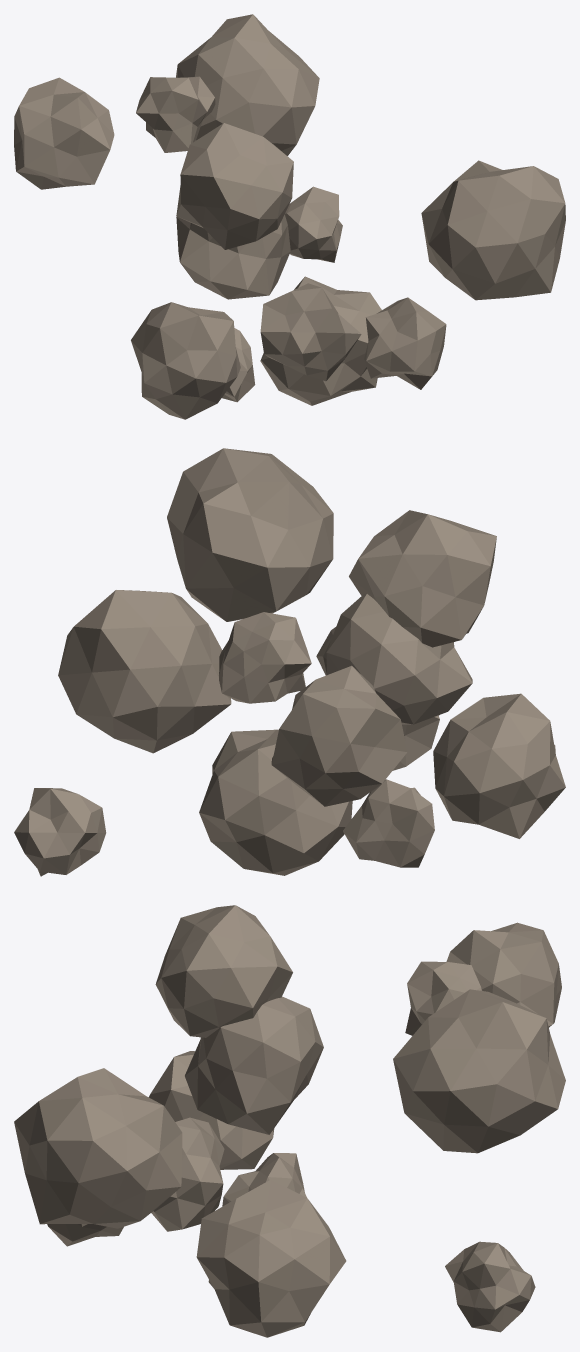
Rendered from planet_debris.glb.
3 renders of one model, top to bottom at view 1: azimuth 30°, elevation 25°; view 2: azimuth 150°, elevation 25°; view 3: azimuth 270°, elevation 25°, orthographic. The views are drawn at different scales.
Parts seen in each view (by area): view 1: Debris_02, Debris_09, Debris_03, Debris_00, Debris_04, Debris_01, Debris_05, Debris_08, Debris_06, Debris_07, Debris_11, Debris_10; view 2: Debris_02, Debris_09, Debris_00, Debris_03, Debris_06, Debris_04, Debris_05, Debris_07, Debris_11, Debris_10, Debris_01; view 3: Debris_09, Debris_02, Debris_06, Debris_05, Debris_03, Debris_04, Debris_11, Debris_01, Debris_00, Debris_07, Debris_10, Debris_08.
Part boxes in pixels (bbox=[...]): Debris_02: bbox=[421, 160, 565, 300]; Debris_09: bbox=[176, 14, 319, 155]; Debris_03: bbox=[176, 123, 293, 249]; Debris_00: bbox=[131, 302, 240, 419]; Debris_04: bbox=[14, 77, 114, 189]; Debris_01: bbox=[260, 283, 361, 381]; Debris_05: bbox=[176, 214, 290, 299]; Debris_08: bbox=[364, 297, 446, 389]; Debris_06: bbox=[260, 276, 381, 405]; Debris_07: bbox=[136, 76, 215, 152]; Debris_11: bbox=[284, 186, 342, 262]; Debris_10: bbox=[222, 328, 255, 402]; Debris_02: bbox=[167, 448, 333, 621]; Debris_09: bbox=[58, 590, 231, 753]; Debris_00: bbox=[433, 693, 565, 838]; Debris_03: bbox=[349, 510, 496, 647]; Debris_06: bbox=[199, 729, 352, 875]; Debris_04: bbox=[271, 665, 407, 806]; Debris_05: bbox=[326, 593, 472, 724]; Debris_07: bbox=[219, 612, 311, 703]; Debris_11: bbox=[14, 788, 106, 876]; Debris_10: bbox=[343, 779, 434, 867]; Debris_01: bbox=[393, 715, 439, 770]; Debris_09: bbox=[393, 989, 565, 1153]; Debris_02: bbox=[14, 1068, 182, 1228]; Debris_06: bbox=[196, 1179, 346, 1337]; Debris_05: bbox=[185, 996, 323, 1134]; Debris_03: bbox=[155, 905, 292, 1037]; Debris_04: bbox=[446, 922, 561, 1027]; Debris_11: bbox=[445, 1241, 535, 1332]; Debris_01: bbox=[151, 1117, 224, 1231]; Debris_00: bbox=[149, 1051, 274, 1169]; Debris_07: bbox=[405, 961, 482, 1035]; Debris_10: bbox=[222, 1153, 306, 1206]; Debris_08: bbox=[47, 1224, 123, 1246].
Bounding box in the file's own units: 1.18 × 0.9754 × 1.34.
